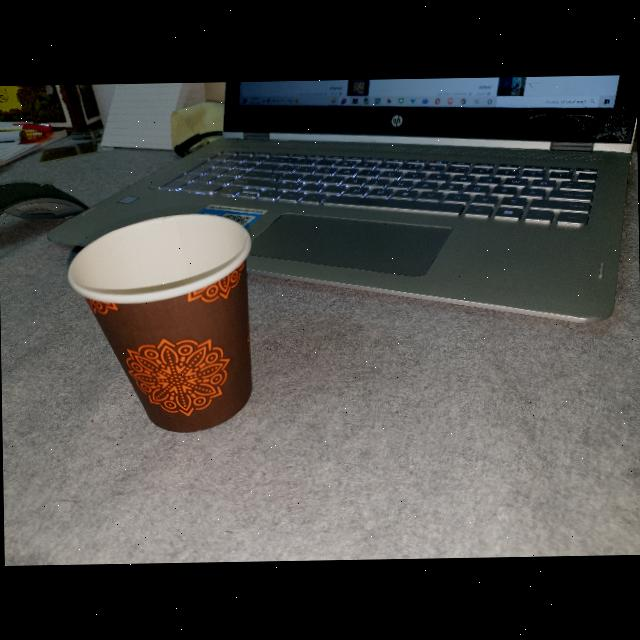trash: (55, 206, 279, 443)
